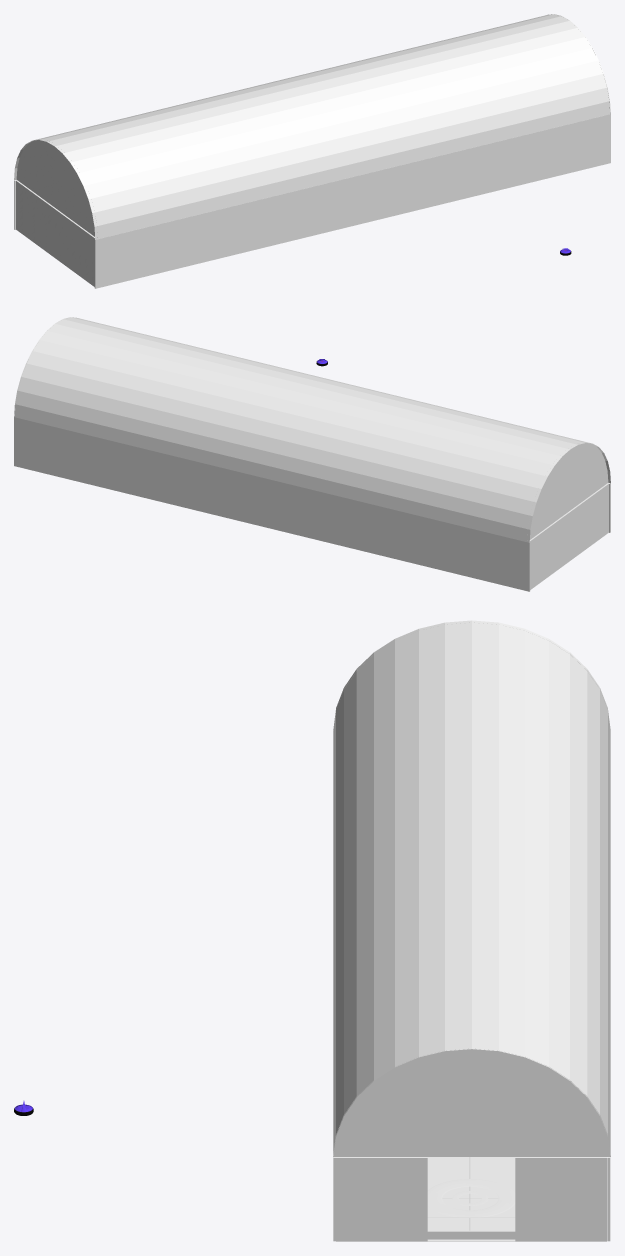
The model's file is ARENA.glb.
3 views of the same model, one above another, from view 1: azimuth 30°, elevation 25°; view 2: azimuth 150°, elevation 25°; view 3: azimuth 270°, elevation 25° (orthographic). The views are drawn at different scales.
Visible parts, largest first — view 1: Cylinder, Cube.003, Cube.016, Sphere; view 2: Cylinder, Cube.017, Cube.016, Sphere; view 3: Cylinder, Sphere.001, Cube.014, Plane, Torus.003, Cube.002.
Boxes of the visible parts, x1,y1,x2,y2 form: Cylinder: (14,14,610,239); Cube.003: (94,114,610,288); Cube.016: (16,180,95,286); Sphere: (16,140,97,237); Cylinder: (14,317,610,542); Cube.017: (14,417,530,591); Cube.016: (529,483,608,589); Sphere: (527,443,608,540); Cylinder: (333,620,610,1153); Sphere.001: (333,1048,610,1156); Cube.014: (336,1157,606,1241); Plane: (427,1157,515,1230); Torus.003: (427,1179,515,1217); Cube.002: (427,1230,515,1239).
Bounding box in the file's own units: 388 × 80.94 × 228.
18 materials, 2 textured.
